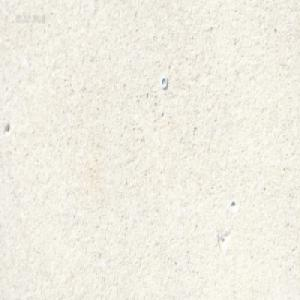Washer: (160, 75, 167, 89)
